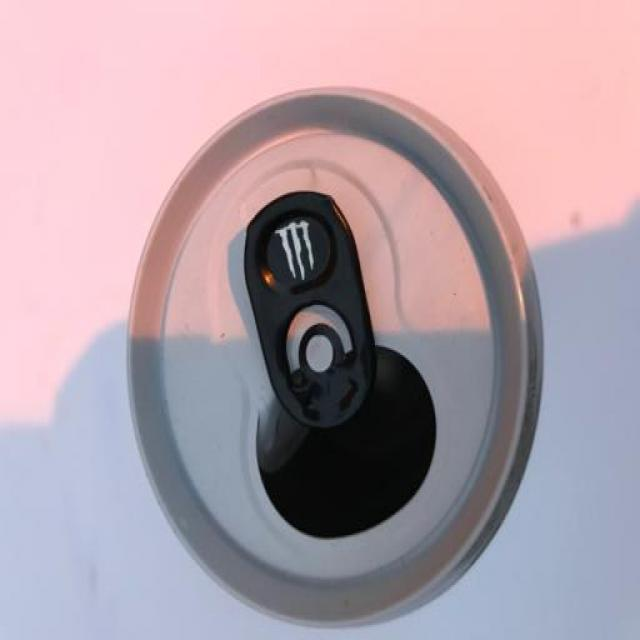metel: (126, 65, 561, 639)
